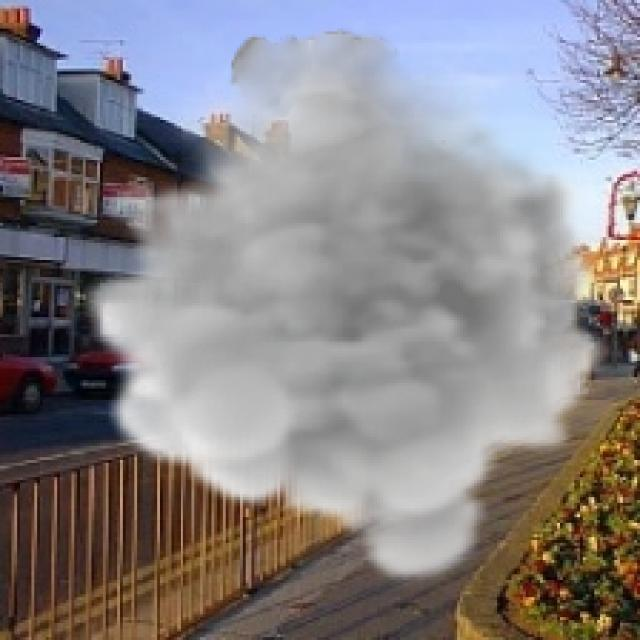Smoke: (80, 26, 609, 588)
